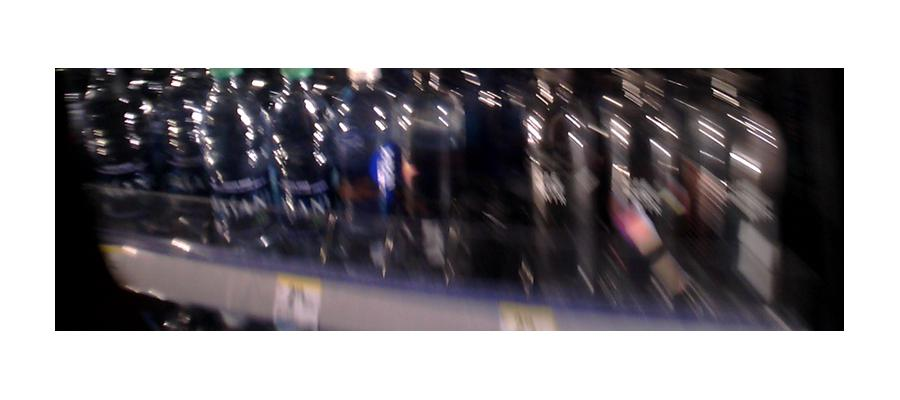bottle: (526, 72, 602, 303), (389, 66, 461, 292), (322, 62, 390, 278), (261, 58, 329, 259), (197, 70, 269, 247)
